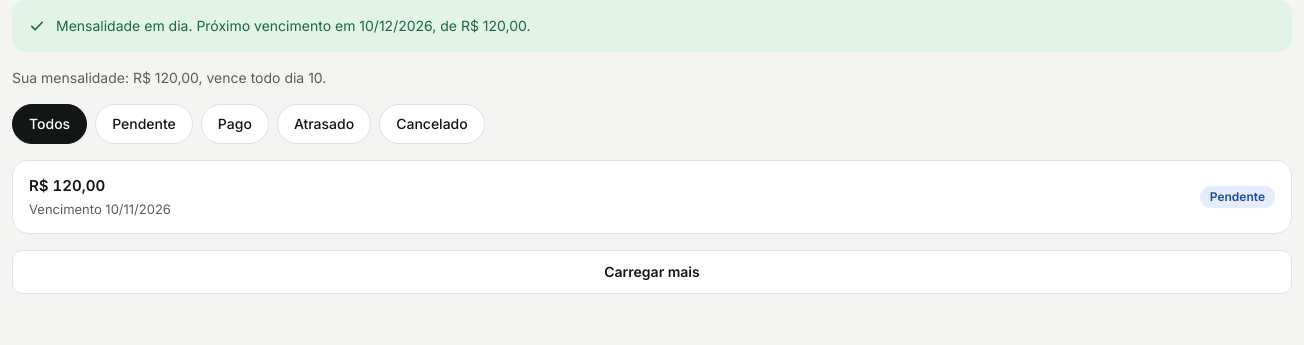
Scenario: MeusPagamentos › erro no Carregar mais mantém a lista e mostra o alerta
Click the button "Carregar mais".
click(652, 272)  # box [12,250,1292,294]
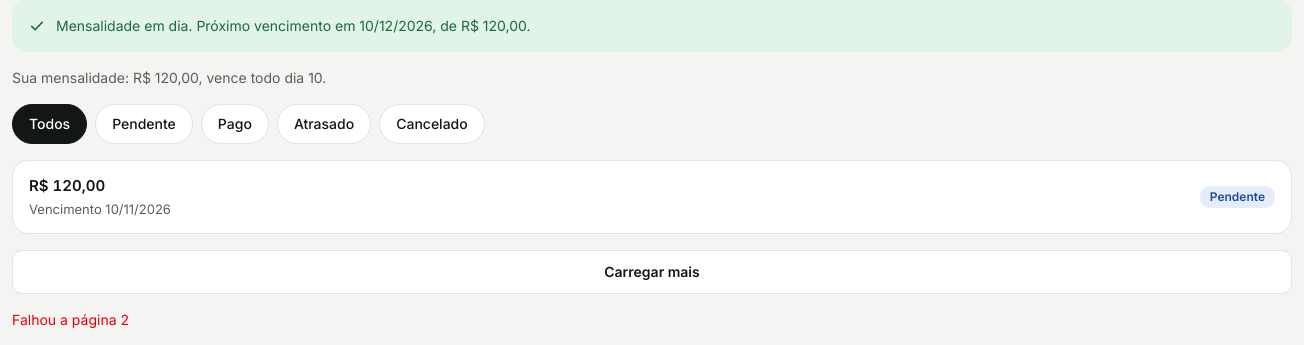
Expected: the text "Vencimento 10/11/2026" is shown, [29,200,171,219]
Result: the message reads "Falhou a página 2" at [12,311,129,328]
